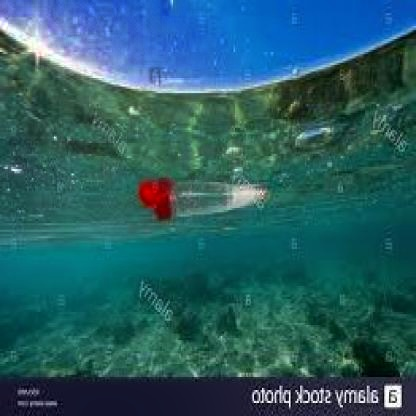pbottle: (138, 162, 265, 230)
